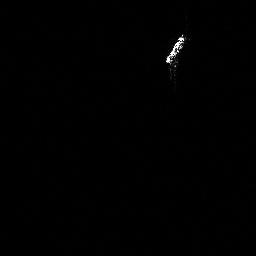ship: (163, 33, 190, 82)
